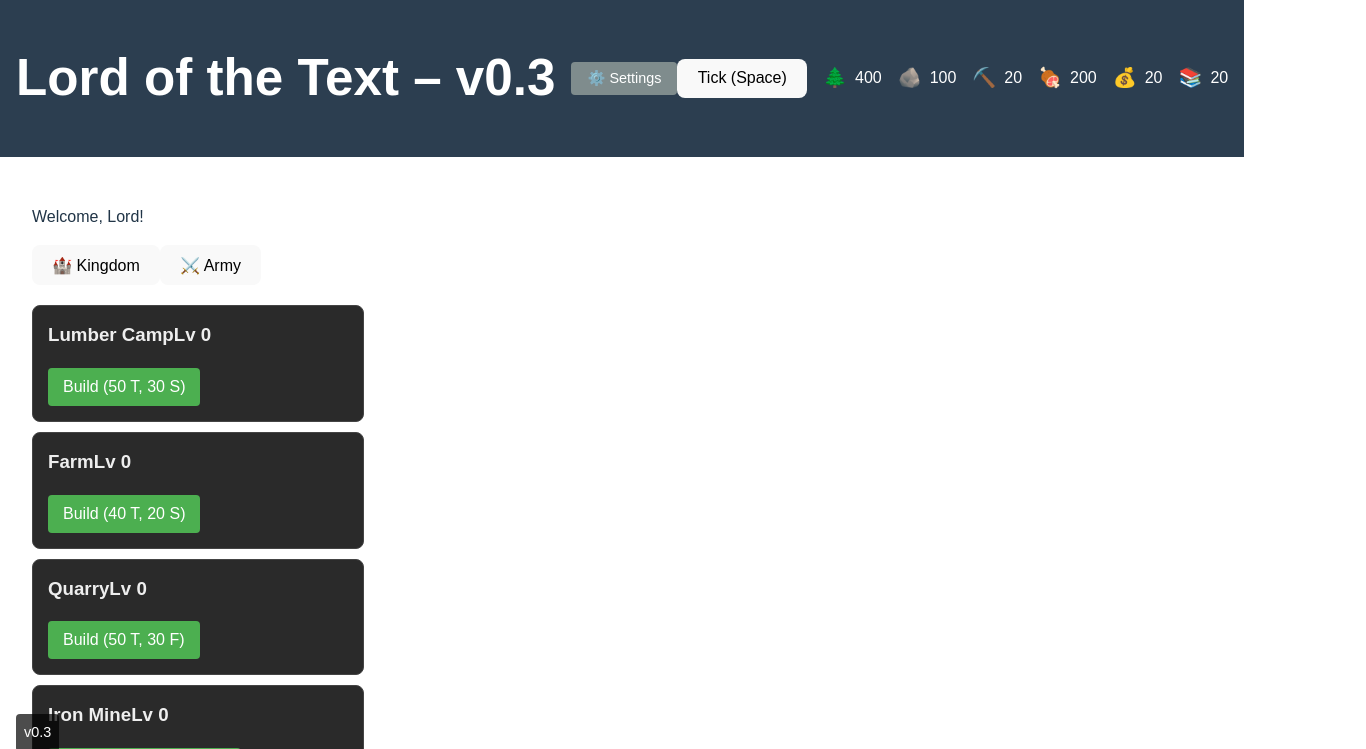
Test: Integration Tests - End-to-End User Flows › should complete a unit training cycle
Check: the heading "Lord of the Text – v0.3" is shown, box x1=16 y1=50 x2=556 y2=107
Click the button "Build (40 T, 20 S)" at (124, 514), box x1=48 y1=495 x2=200 y2=533
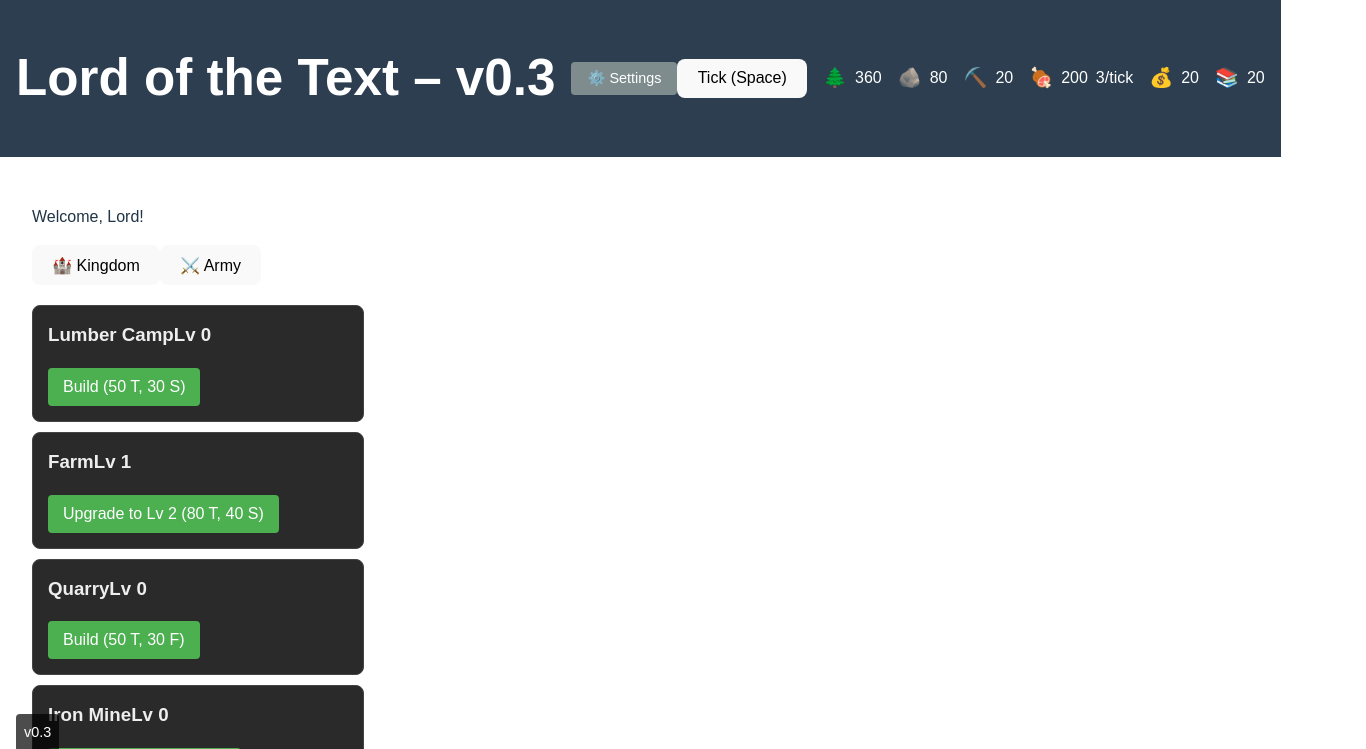
Check: the text "360" is shown, box x1=855 y1=66 x2=882 y2=90
